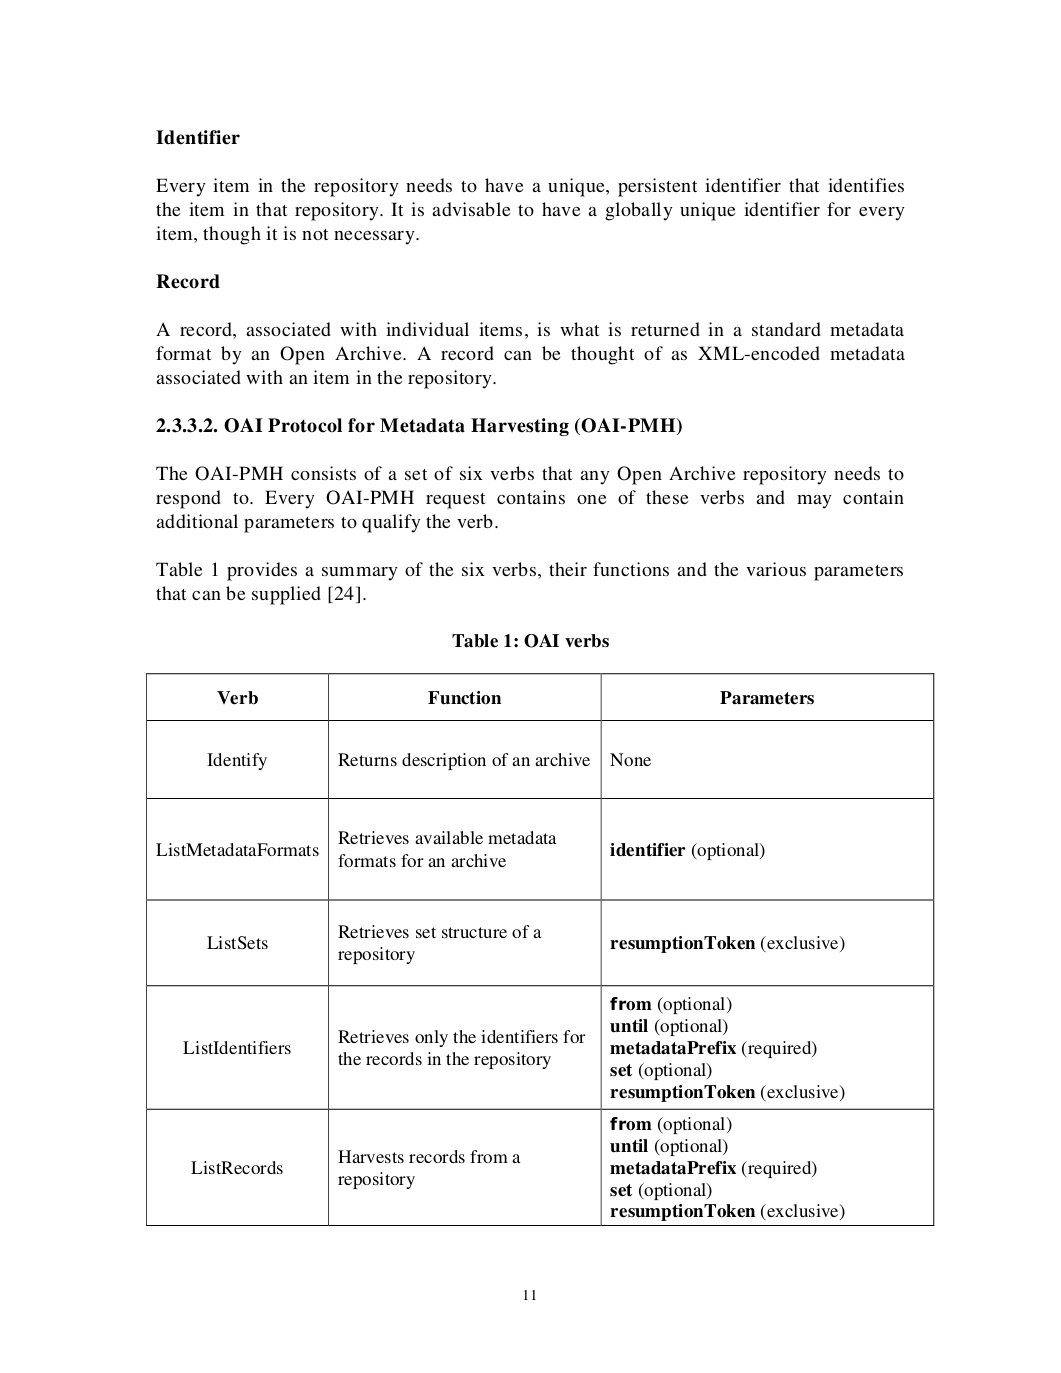Table: (146, 672, 934, 1226)
